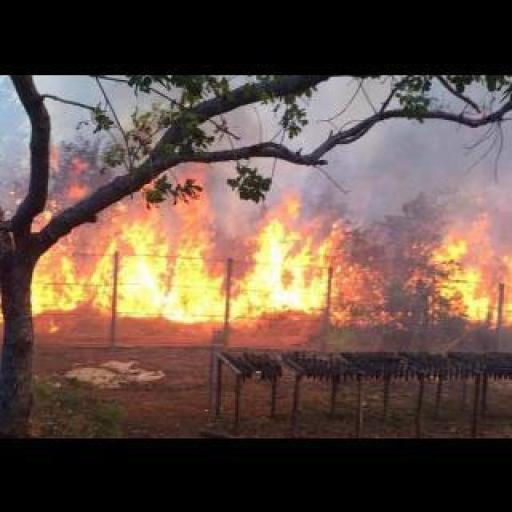smoke: (44, 172, 390, 334), (414, 210, 509, 326)
